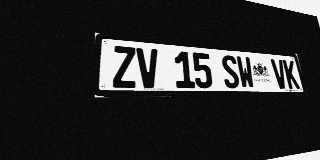1: (173, 51, 195, 88)
5: (192, 52, 214, 88)
K: (282, 60, 300, 89)
S: (220, 55, 241, 88)
V: (136, 48, 160, 88), (270, 59, 288, 89)
W: (236, 56, 255, 88)
Z: (112, 45, 137, 88)
